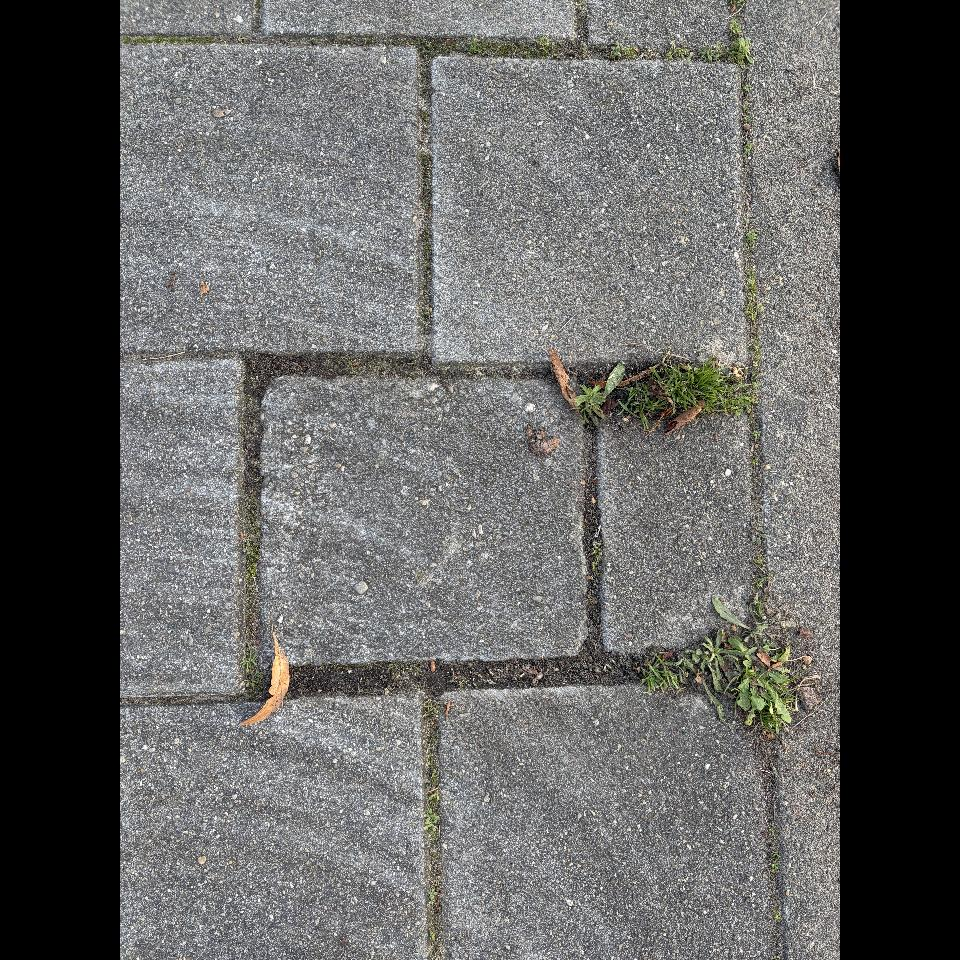weed: (643, 631, 797, 734), (614, 359, 754, 433), (574, 363, 625, 425), (744, 266, 763, 324), (241, 639, 261, 694), (576, 386, 603, 424), (424, 793, 439, 838), (746, 229, 758, 249), (744, 140, 753, 158), (752, 430, 761, 441), (428, 889, 437, 899), (742, 82, 750, 93), (743, 103, 749, 113), (430, 931, 436, 940), (744, 116, 750, 122), (753, 477, 758, 483), (430, 896, 434, 903), (432, 770, 436, 777), (427, 761, 430, 765), (428, 754, 431, 758)
